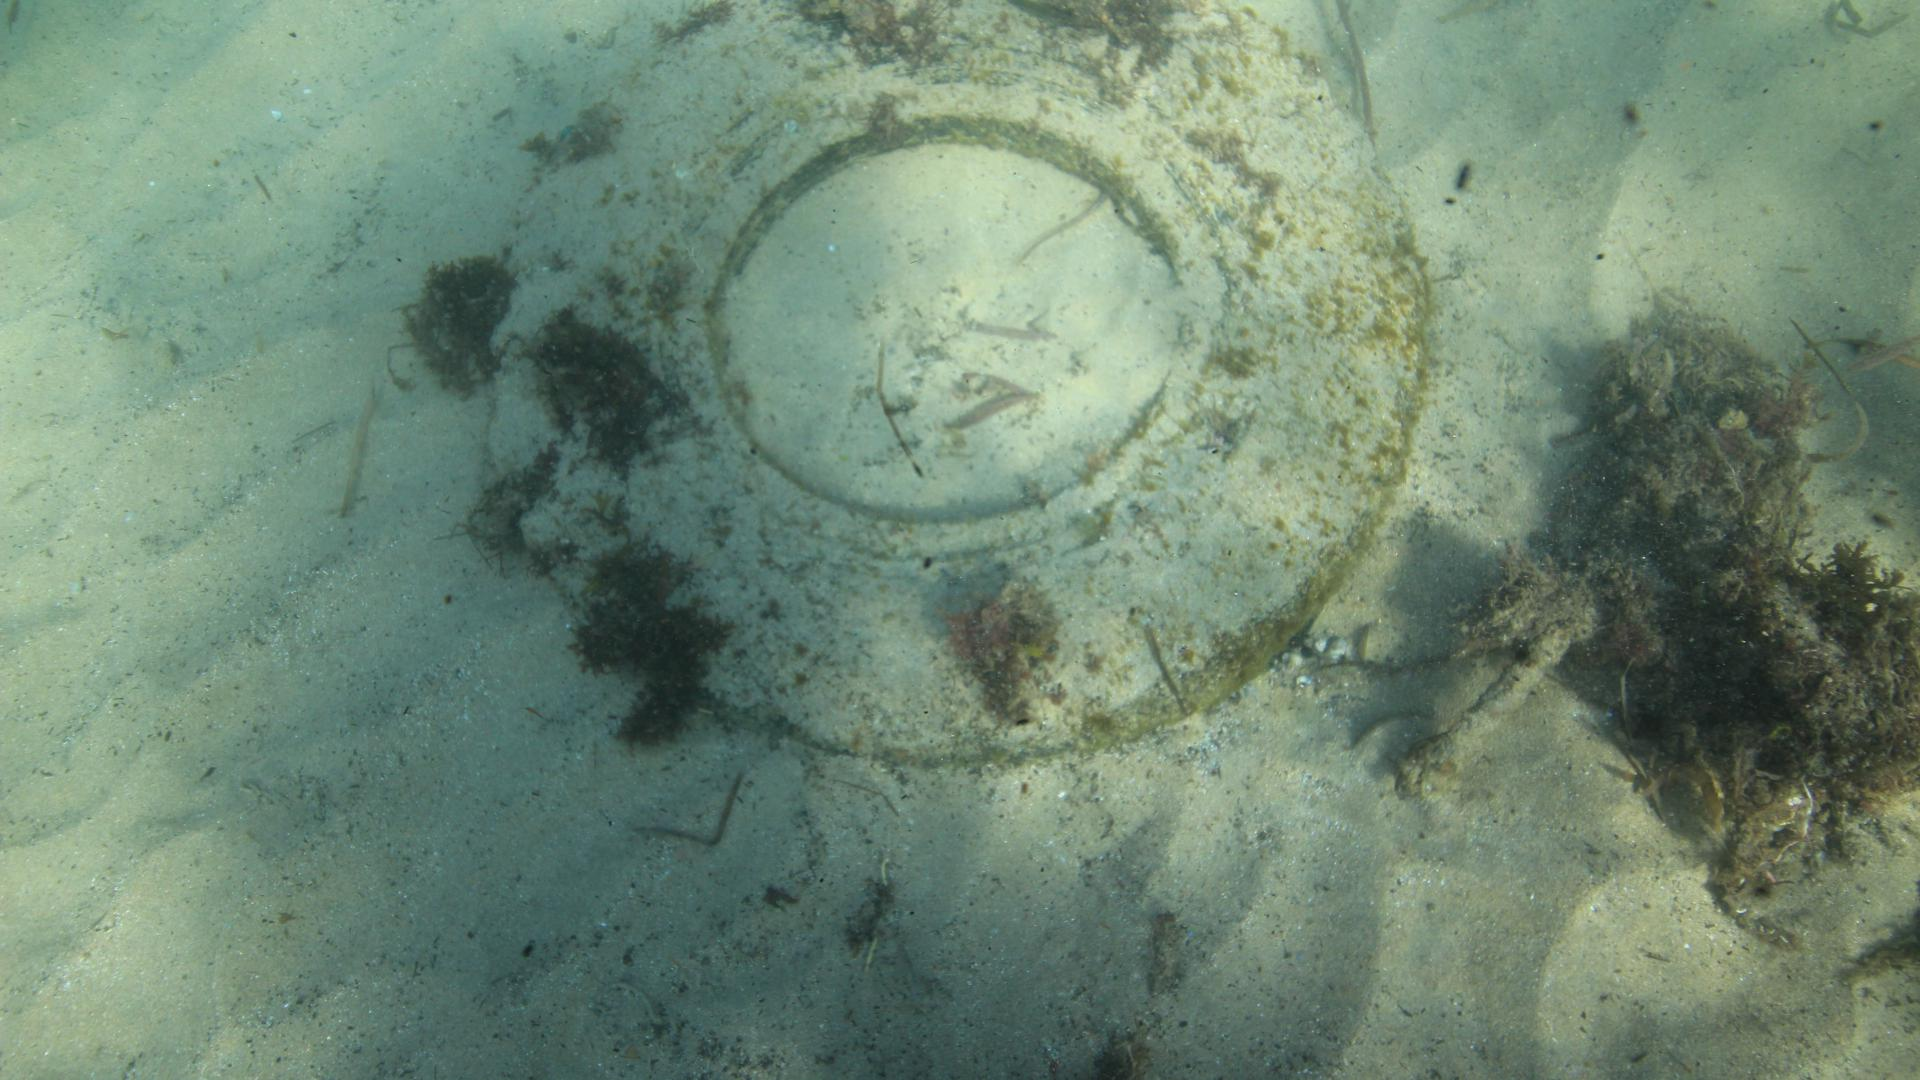tire: (487, 0, 1429, 762)
